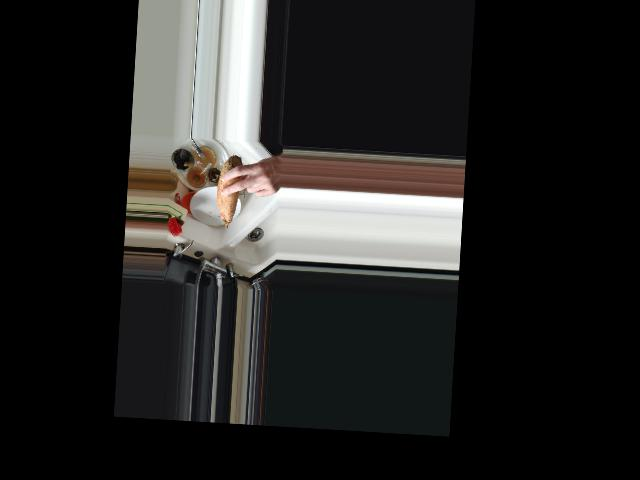sweet_potato: (215, 152, 247, 232)
